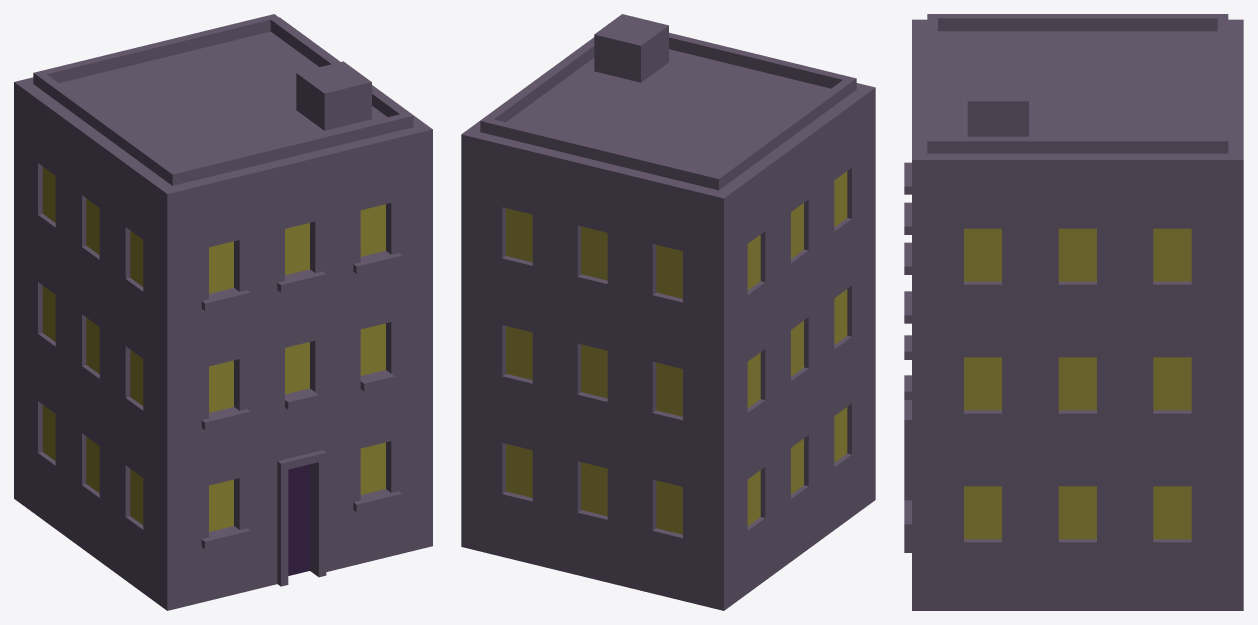
The model's file is building_cityscene.fbx.
3 renders of one model, left to right at view 1: azimuth 30°, elevation 25°; view 2: azimuth 150°, elevation 25°; view 3: azimuth 270°, elevation 25°, orthographic. The views are drawn at different scales.
Visible parts, largest first — view 1: wall_front, wall_L, roof, roof_detail; view 2: wall_back, wall_L, roof, roof_detail; view 3: wall_R, roof, roof_detail, wall_front.
Part boxes in pixels (x1,y1,x2,y2): wall_front: [167, 129, 432, 610]; wall_L: [14, 82, 167, 610]; roof: [14, 14, 432, 193]; roof_detail: [296, 61, 371, 130]; wall_back: [461, 134, 723, 610]; wall_L: [724, 88, 875, 610]; roof: [461, 32, 875, 198]; roof_detail: [594, 14, 668, 82]; wall_R: [912, 160, 1243, 610]; roof: [912, 14, 1243, 159]; roof_detail: [967, 76, 1028, 136]; wall_front: [904, 162, 911, 552].
Bounding box in the file's own units: 4 × 6.53 × 4.09.
